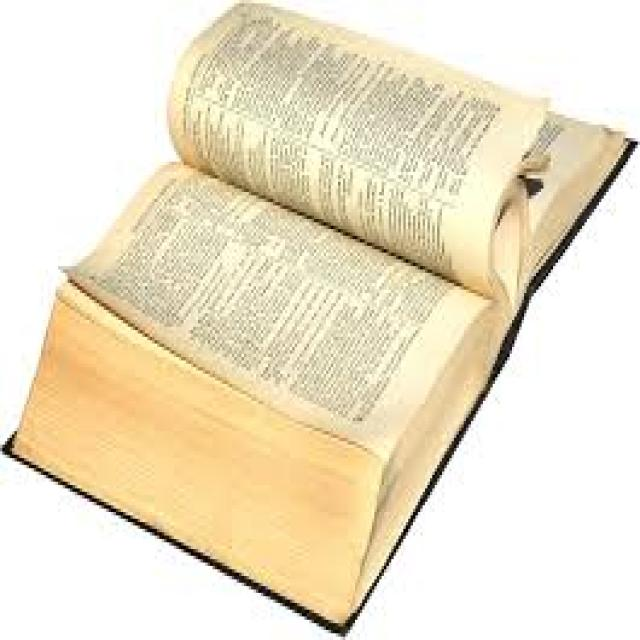paper: (0, 0, 638, 627), (53, 158, 486, 458), (164, 0, 546, 290)
